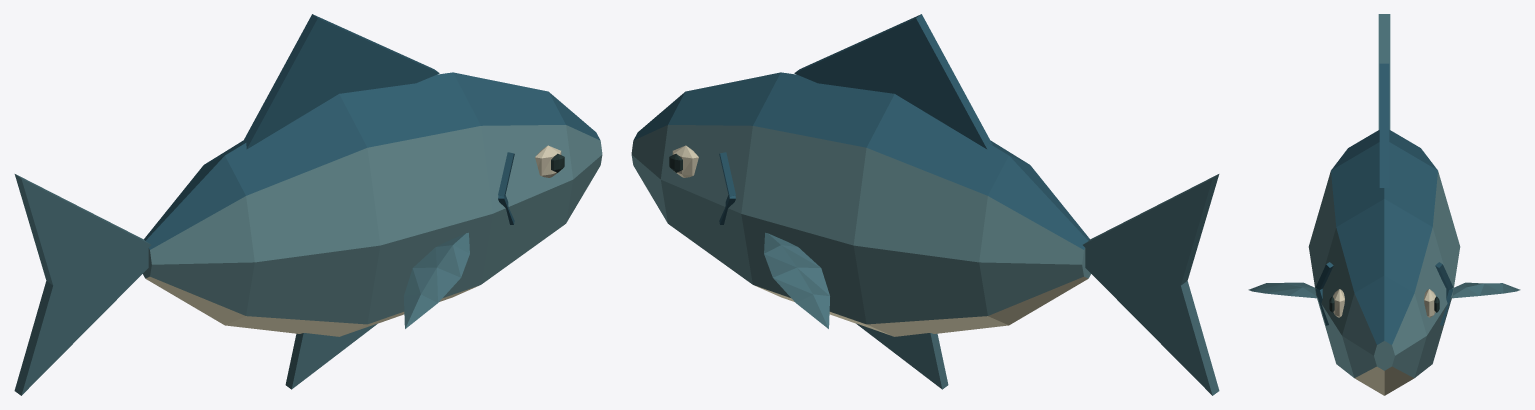
File: fish_bluecarp.glb
3 views of the same model, side by side, from view 1: azimuth 30°, elevation 25°; view 2: azimuth 150°, elevation 25°; view 3: azimuth 270°, elevation 25° (orthographic). The views are drawn at different scales.
Parts seen in each view (by area): view 1: fish_bluecarp; view 2: fish_bluecarp; view 3: fish_bluecarp.
Boxes of the visible parts, x1=… form: fish_bluecarp: x1=14, y1=14, x2=602, y2=395; fish_bluecarp: x1=631, y1=14, x2=1219, y2=395; fish_bluecarp: x1=1248, y1=14, x2=1520, y2=395.
Bounding box in the file's own units: 0.872 × 0.5256 × 0.414.
